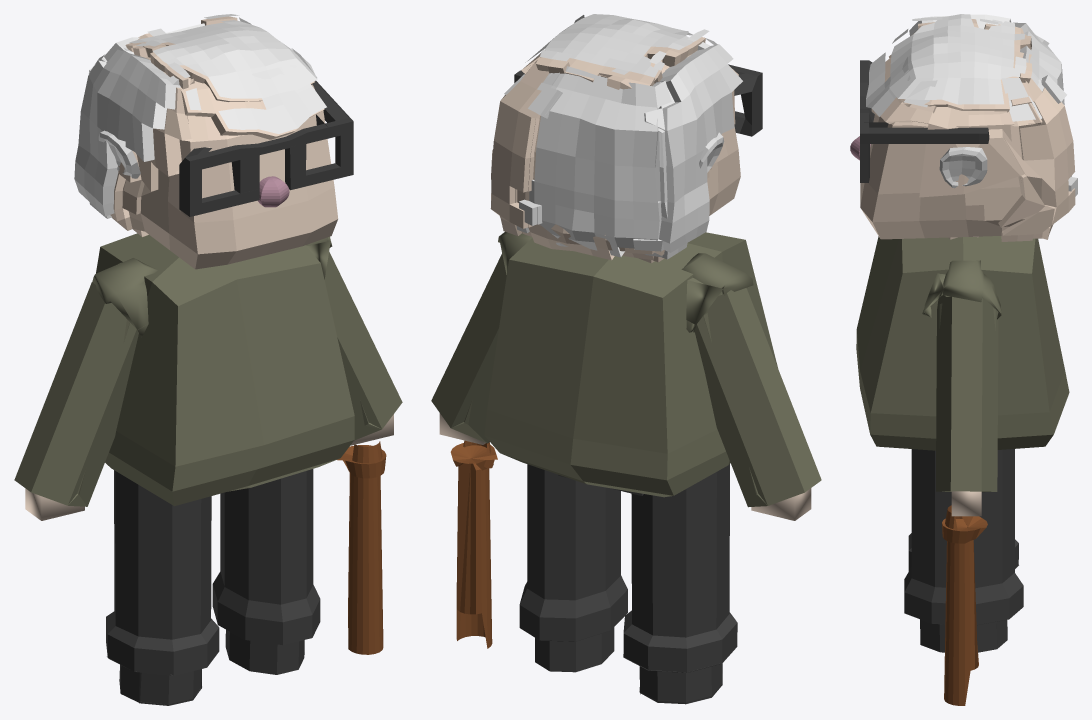
Rendered from GRANDPA.fbx.
3 views of the same model, side by side, from view 1: azimuth 30°, elevation 25°; view 2: azimuth 150°, elevation 25°; view 3: azimuth 270°, elevation 25° (orthographic). The views are drawn at different scales.
Visible parts, largest first — view 1: Cube, Cube.005, Cylinder.003, Cylinder.004, Cylinder.001, Cube.008, Cube.009, Cube.004, Cylinder.007, Cylinder.005, Cylinder, Cube.006 (+2 smaller); view 2: Cube, Cube.009, Cylinder.003, Cylinder.004, Cylinder.001, Cube.005, Cylinder.007, Cylinder.005, Cube.008, Cylinder, Cube.004, Cube.006 (+1 smaller); view 3: Cube, Cube.005, Cylinder.004, Cylinder.005, Cube.008, Cylinder.007, Cube.004, Cube.009, Cylinder.002, Cube.002, Cube.007.
Boxes of the visible parts, x1,y1,x2,y2 form: Cube: [96, 233, 354, 506]; Cube.005: [110, 16, 338, 269]; Cylinder.003: [106, 470, 219, 705]; Cylinder.004: [212, 469, 320, 674]; Cylinder.001: [14, 282, 138, 506]; Cube.008: [129, 14, 326, 133]; Cube.009: [74, 23, 204, 218]; Cube.004: [179, 80, 353, 216]; Cylinder.007: [337, 441, 386, 654]; Cylinder.005: [324, 251, 402, 440]; Cylinder: [92, 258, 157, 337]; Cube.006: [25, 488, 84, 520]; Cube: [484, 232, 777, 497]; Cube.009: [516, 42, 742, 259]; Cylinder.003: [623, 464, 737, 704]; Cylinder.004: [519, 464, 627, 672]; Cylinder.001: [694, 288, 821, 507]; Cube.005: [490, 37, 740, 263]; Cylinder.007: [450, 440, 497, 648]; Cylinder.005: [431, 253, 506, 443]; Cube.008: [504, 14, 717, 94]; Cylinder: [681, 253, 753, 332]; Cube.004: [514, 64, 762, 136]; Cube.006: [751, 488, 811, 520]; Cube: [856, 236, 1069, 450]; Cube.005: [860, 19, 1075, 241]; Cylinder.004: [904, 449, 1023, 652]; Cylinder.005: [936, 292, 998, 492]; Cube.008: [866, 14, 1044, 121]; Cylinder.007: [942, 505, 987, 705]; Cube.004: [860, 60, 989, 182]; Cube.009: [909, 14, 1077, 196]; Cylinder.002: [922, 260, 1001, 319]; Cube.002: [939, 147, 987, 188]; Cube.007: [951, 491, 981, 516].
Size of the model in its own units: 281 by 467 by 163.
